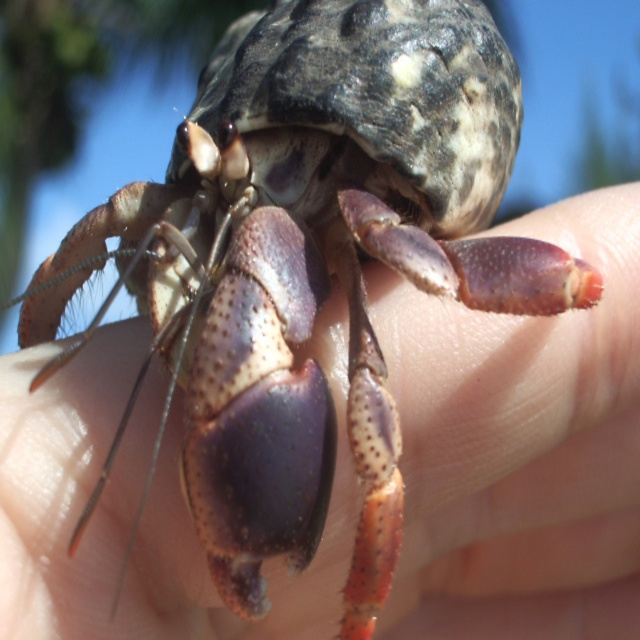Crab: (0, 0, 604, 639)
